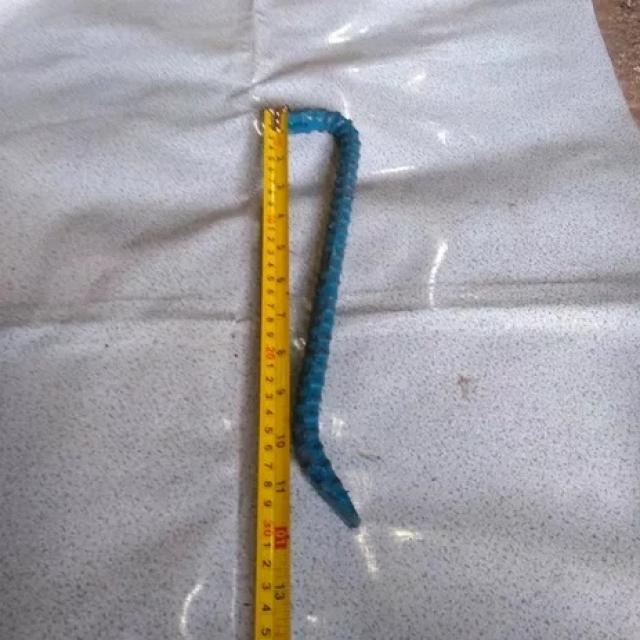Linggis: (275, 112, 362, 526)
